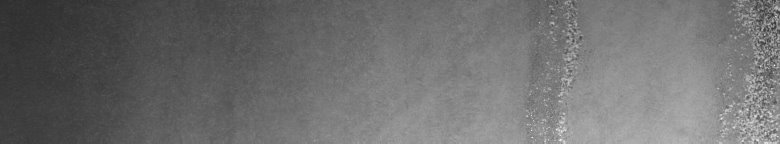hc: (720, 4, 776, 136)
